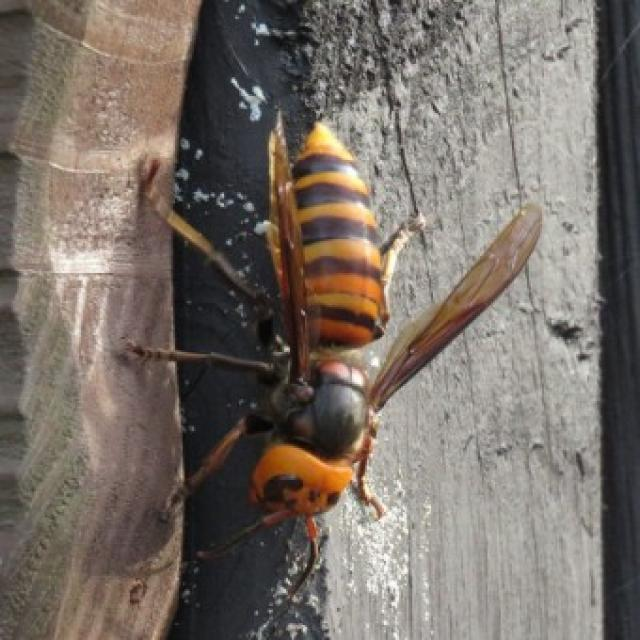Wasp: (120, 111, 546, 594)
